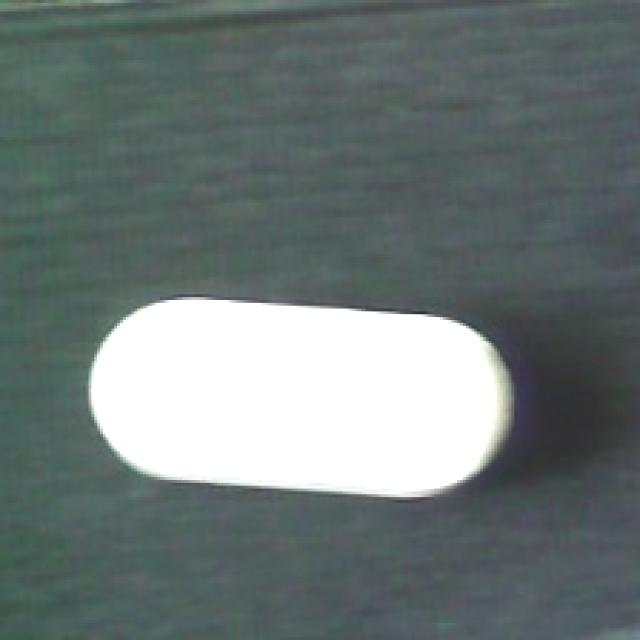no-defect: (83, 289, 514, 497)
